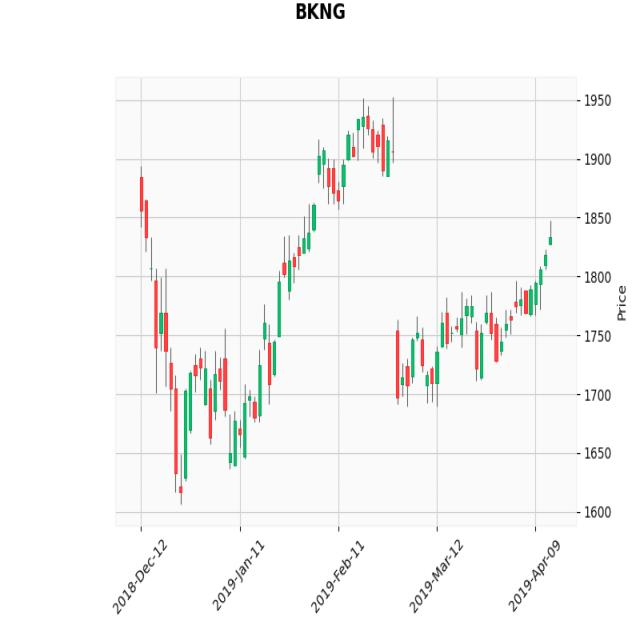Double-Bottom: (145, 280, 288, 507)
